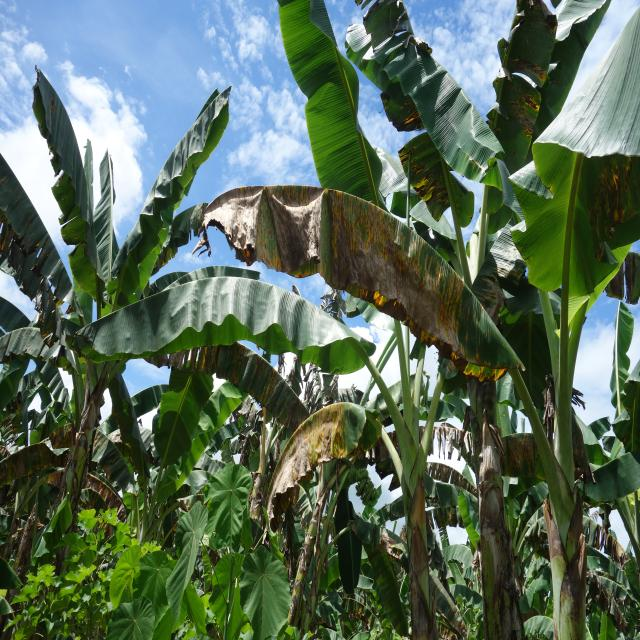Banana-plant: (17, 311, 134, 607), (526, 344, 612, 640), (371, 344, 440, 640), (274, 444, 365, 640)
